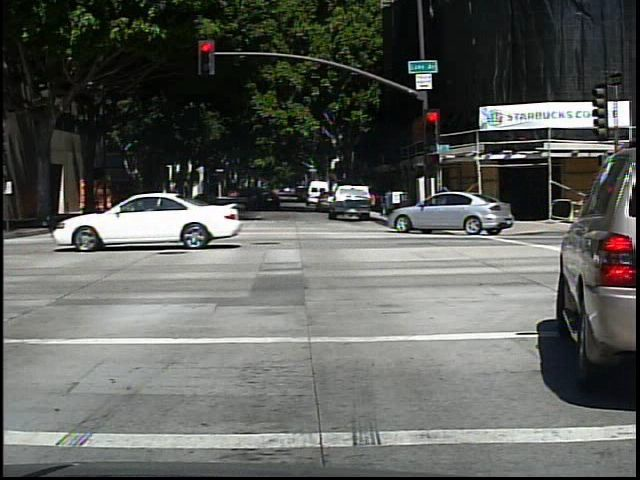person: (88, 186, 104, 220)
